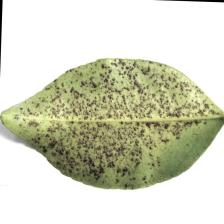canker: (51, 87, 155, 155)
